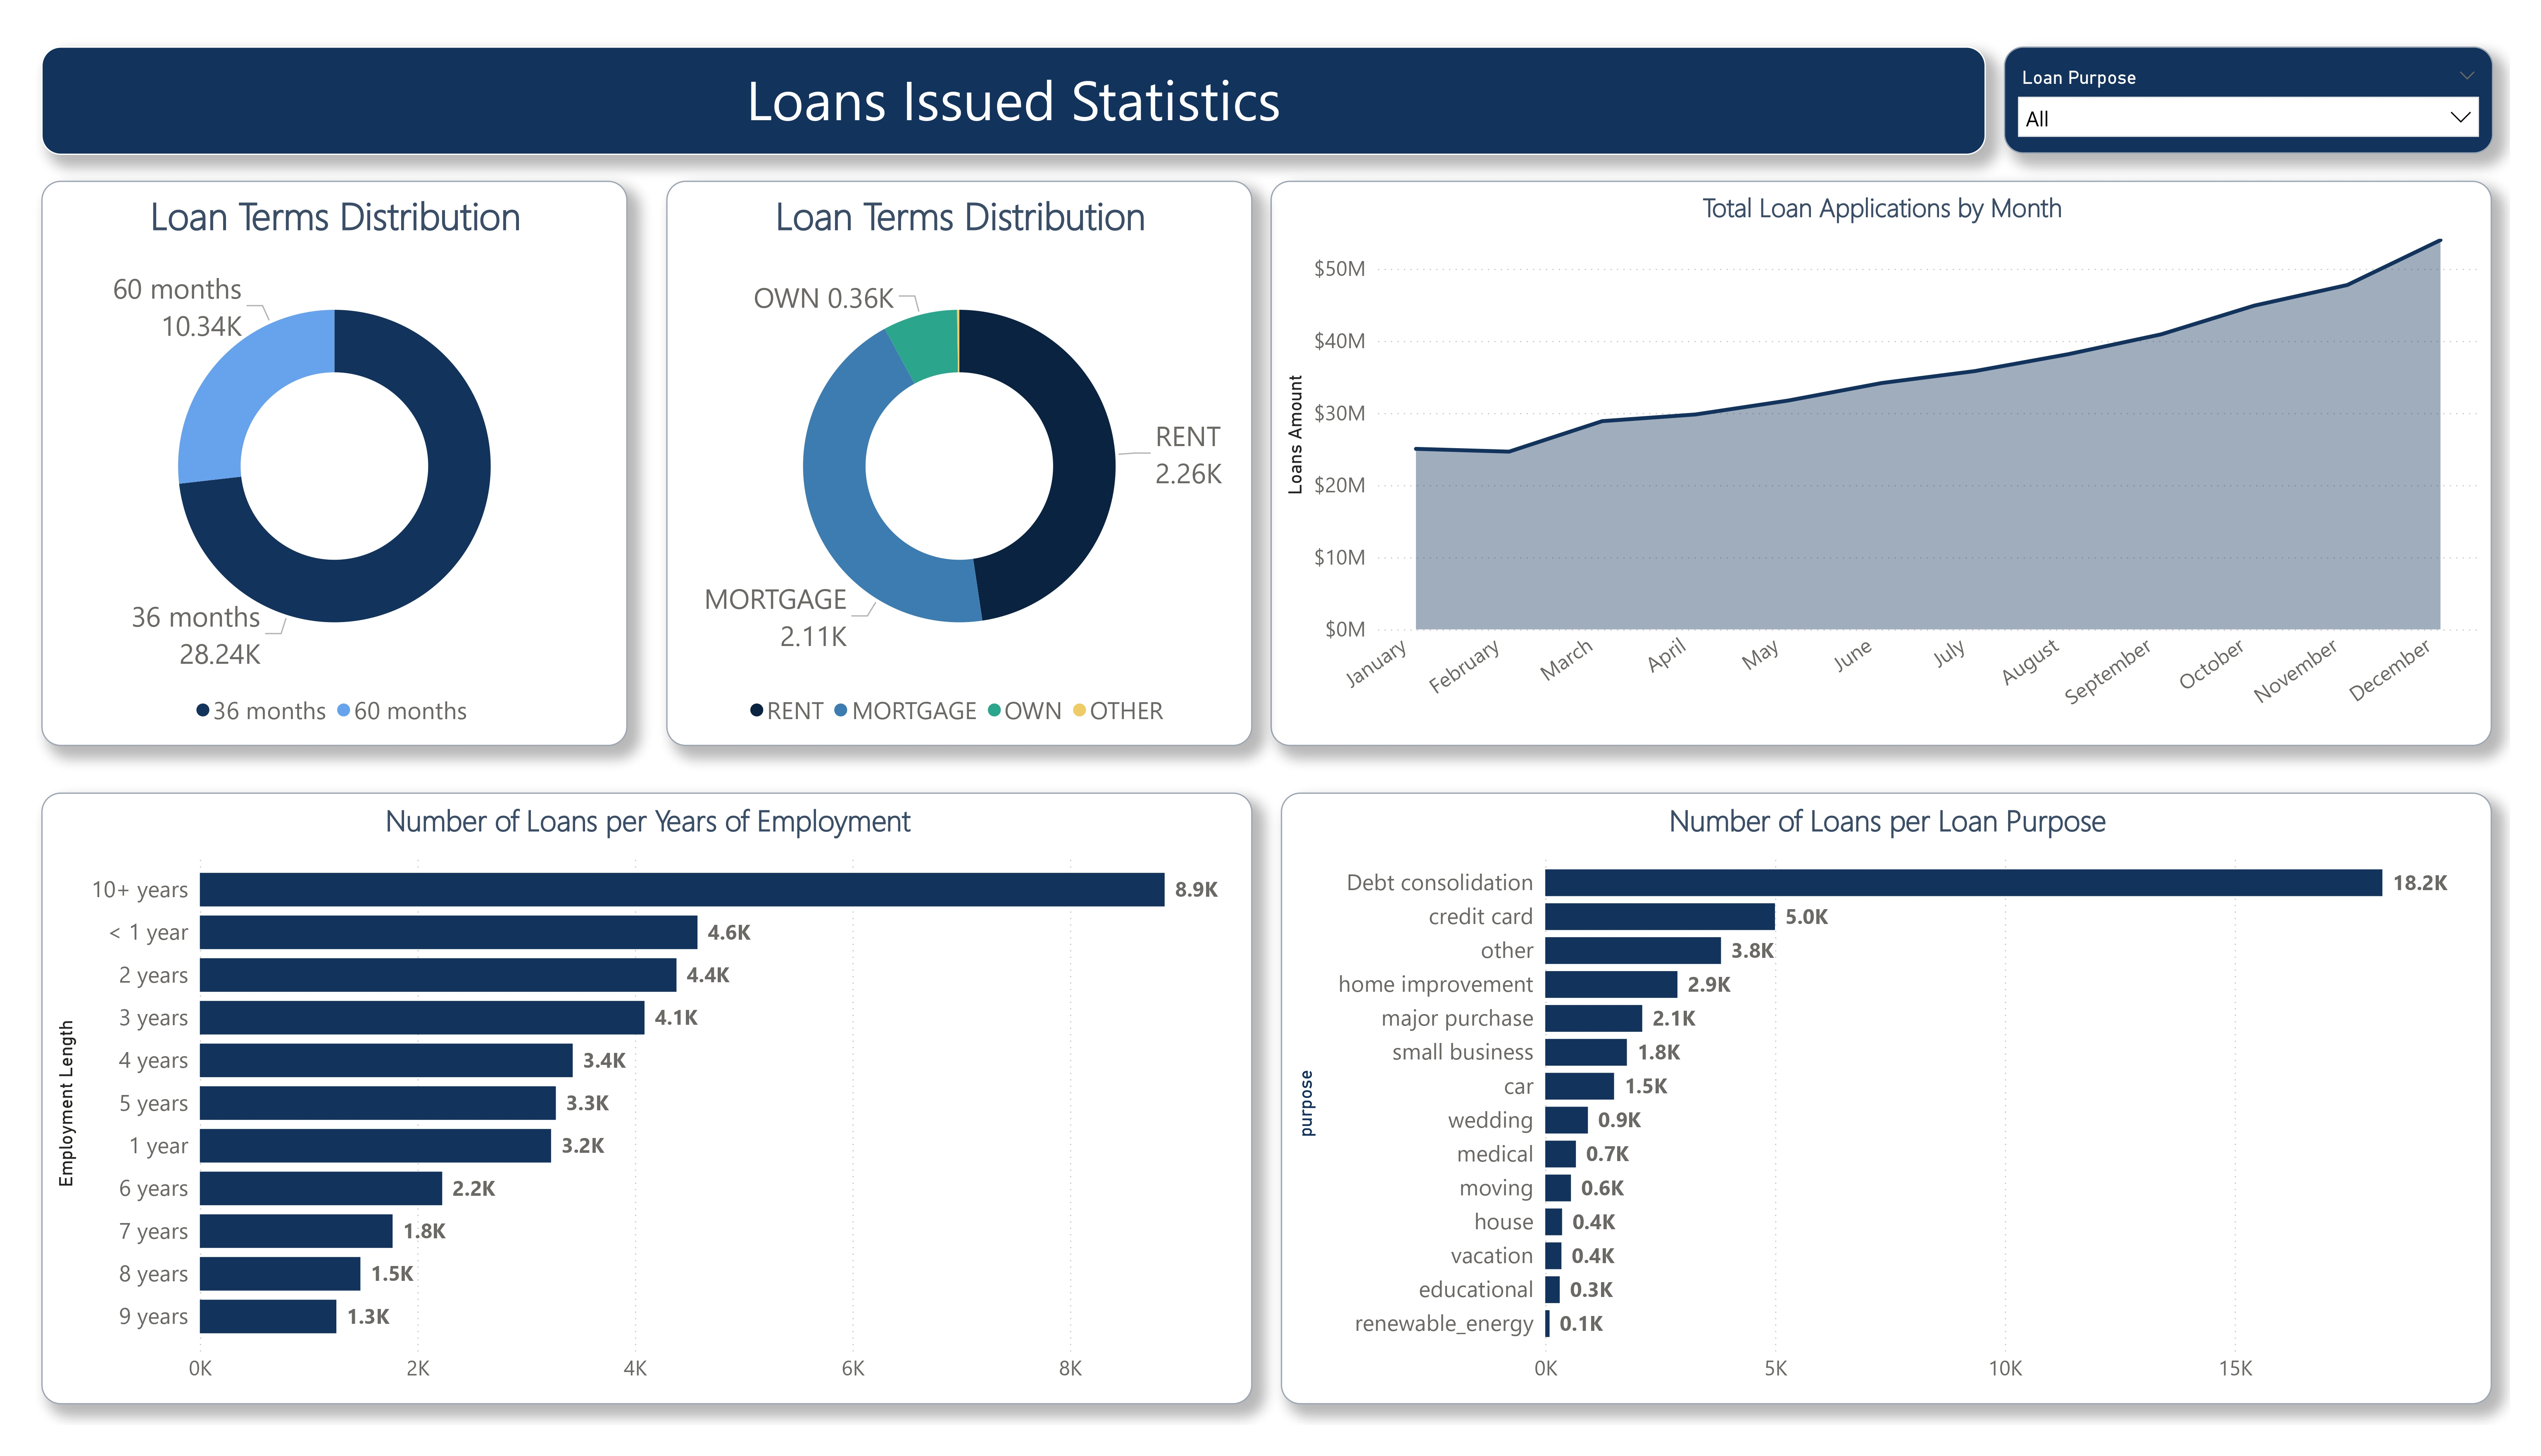

The page's visual inventory and layout, read from the dashboard file:
{"tool":"powerbi","page":{"name":"Stats","canvas":[1920,1080],"ordinal":2},"visuals":[{"type":"stackedAreaChart","title":"Total Loan Applications by Month","fields":{"Category":["dim_date.date.Variation.Date Hierarchy.Month"],"Y":["Sum(fact_loan.loan_amount)"]},"box":[960,116,946,438],"z":0},{"type":"donutChart","title":"Loan Terms Distribution","fields":{"Y":["CountNonNull(fact_loan.loan_term_fk)"],"Category":["dim_loan_term.term_description"]},"box":[8,116,454,438],"z":1000},{"type":"barChart","title":"Number of Loans per Years of Employment ","fields":{"Category":["dim_borrowers.employment_length"],"Y":["CountNonNull(dim_borrowers.borrowers_id_sk)"]},"box":[8,590,938,474],"z":2000},{"type":"clusteredBarChart","title":"Number of Loans per Purpose ","fields":{"Y":["CountNonNull(fact_loan.purpose)"],"Category":["fact_loan.purpose"]},"box":[968,590,938,474],"z":3000},{"type":"textbox","box":[8,12,1506,84],"z":4000},{"type":"slicer","fields":{"Values":["fact_loan.purpose"]},"box":[1528.3,11.7,378.3,83.3],"z":5000},{"type":"donutChart","title":"Loan Terms Distribution","fields":{"Category":["dim_borrowers.home_ownership"],"Y":["CountNonNull(fact_loan.borrowers_id_fk)"]},"box":[492,116,454,438],"z":6000}]}

Visuals, with their boxes on the page's 1920x1080 design canvas (x1, y1, x2, y2). These are canvas units, not pixel positions in the 2541x1456 screenshot, which may show the page scaled, cropped or inside an application window:
"Total Loan Applications by Month" stackedAreaChart: detection(960, 116, 1906, 554)
"Loan Terms Distribution" donutChart: detection(8, 116, 462, 554)
"Number of Loans per Years of Employment " barChart: detection(8, 590, 946, 1064)
"Number of Loans per Purpose " clusteredBarChart: detection(968, 590, 1906, 1064)
textbox: detection(8, 12, 1514, 96)
slicer - fact_loan.purpose: detection(1528, 12, 1907, 95)
"Loan Terms Distribution" donutChart: detection(492, 116, 946, 554)
